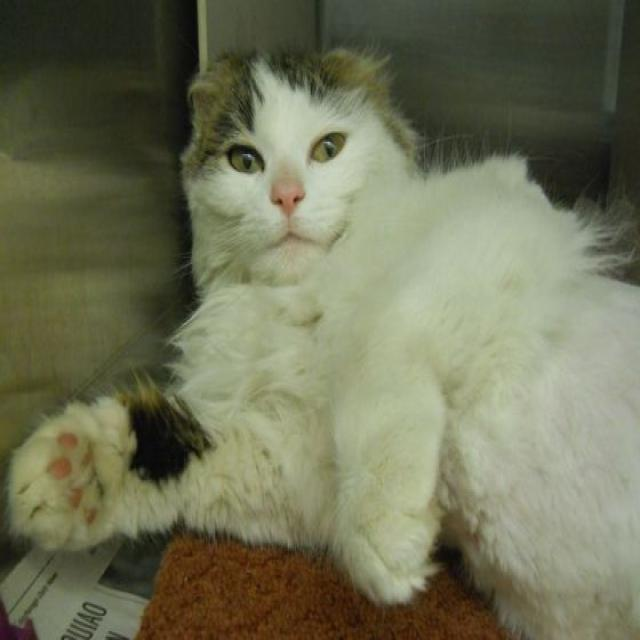domestic_long_hair_cat: (156, 22, 429, 352)
